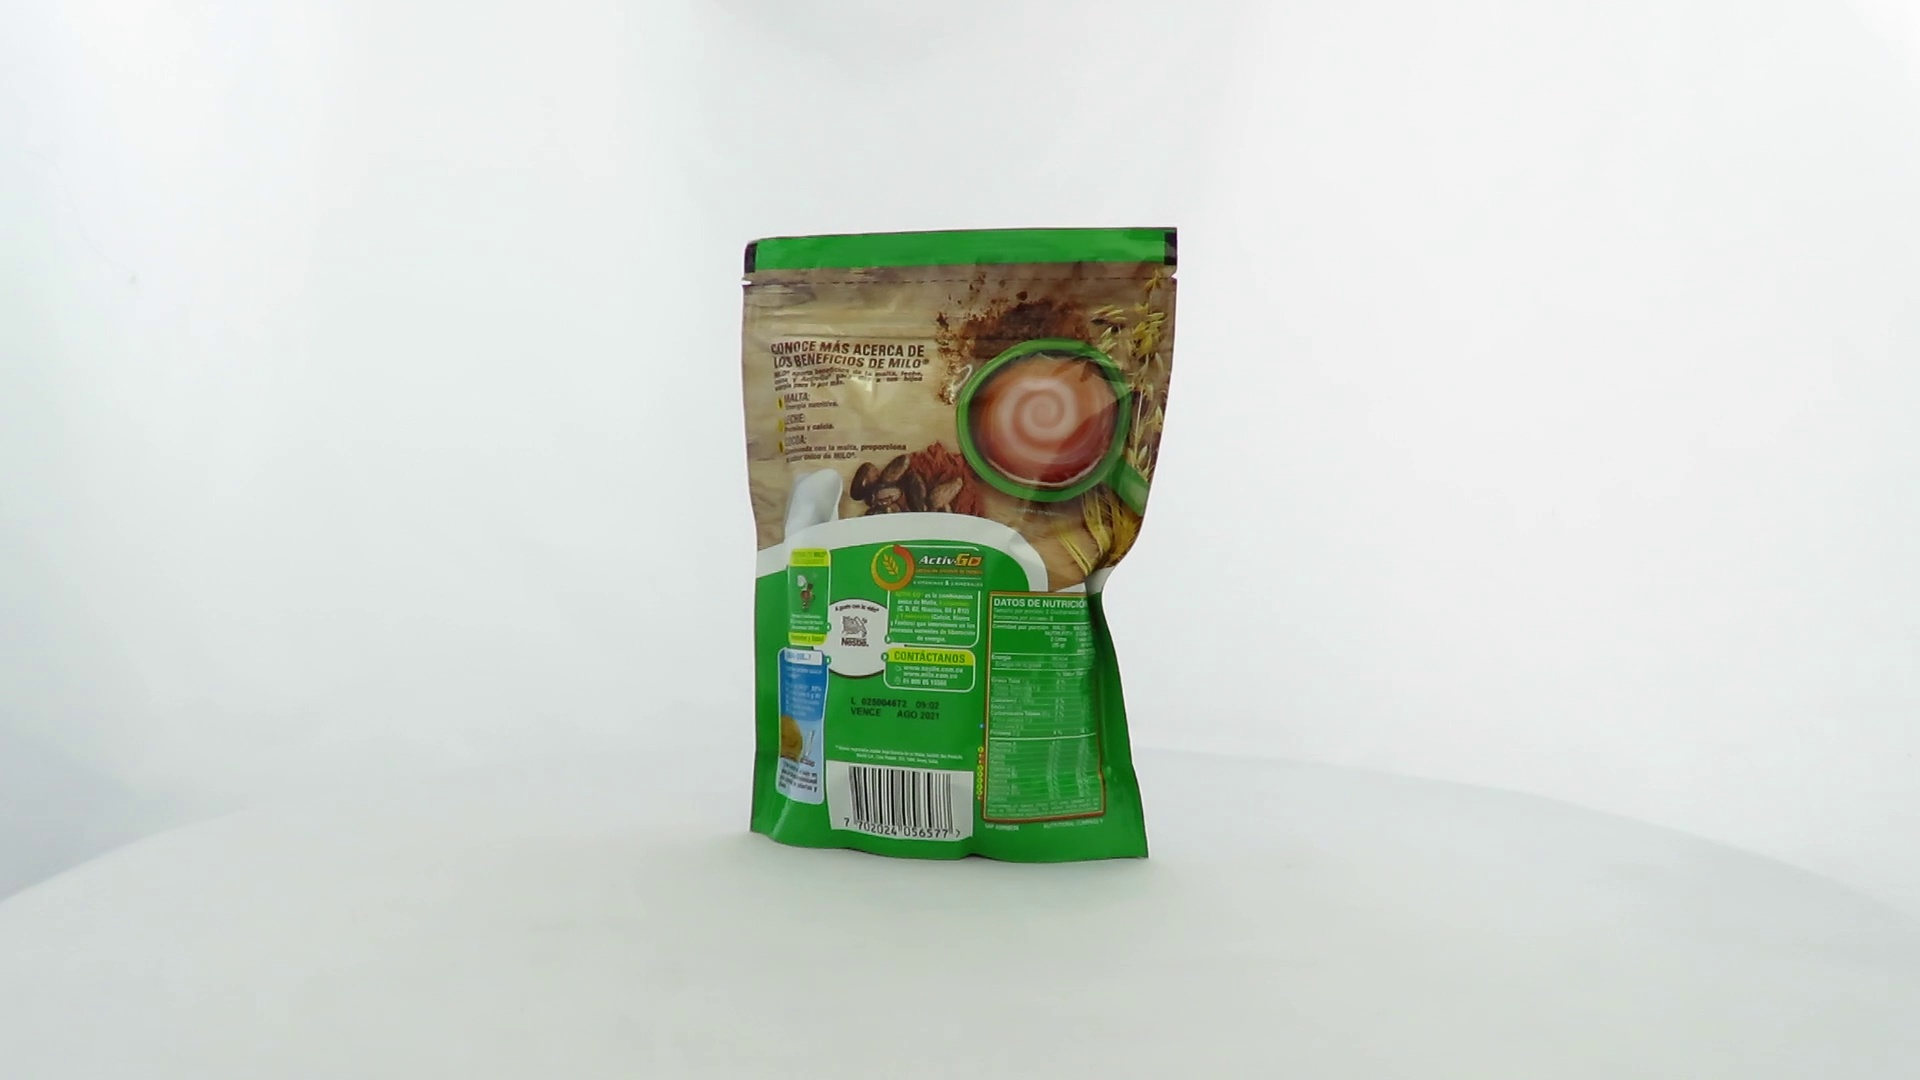COL0170205DYP20000: (736, 222, 1184, 870)
